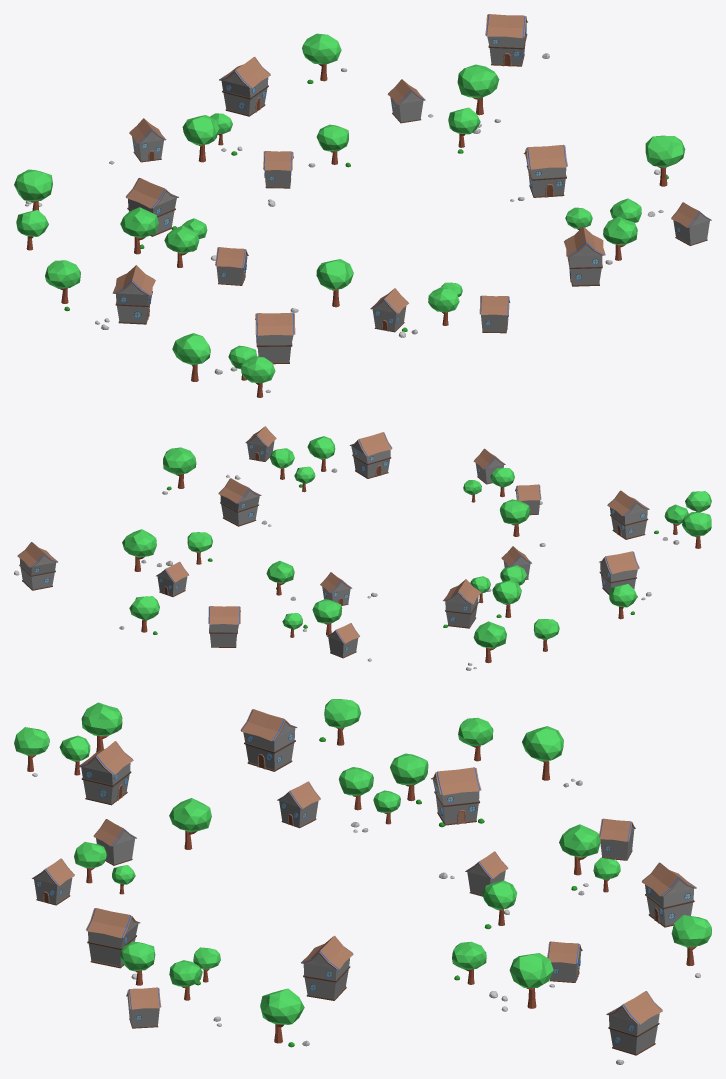
The model's file is _Updated_Town - 1.fbx.
3 views of the same model, one above another, from view 1: azimuth 30°, elevation 25°; view 2: azimuth 150°, elevation 25°; view 3: azimuth 270°, elevation 25° (orthographic). The views are drawn at different scales.
Parts seen in each view (by area): view 1: House2.004, House2.001, House2.005, House2.006, House2.003, House2.002, House2, Tree2, Tree2.003, House1.006, House1.001, House1.003 (+18 smaller); view 2: House2.006, House2.001, House2.002, House2.005, House2, House2.004, House2.003, Tree2, Tree2.003, House1, House1.005, Tree2.018 (+19 smaller); view 3: House2.003, House2.005, House2.002, House2, House2.001, House2.004, House2.006, Tree2.003, Tree2, House1.001, House1.002, House1 (+20 smaller).
Part boxes in pixels (x1=…): House2.004: x1=219, y1=57, x2=270, y2=116; House2.001: x1=523, y1=144, x2=567, y2=197; House2.005: x1=485, y1=14, x2=527, y2=66; House2.006: x1=564, y1=226, x2=605, y2=286; House2.003: x1=112, y1=265, x2=155, y2=324; House2.002: x1=255, y1=312, x2=295, y2=364; House2: x1=125, y1=178, x2=178, y2=236; Tree2: x1=457, y1=64, x2=499, y2=115; Tree2.003: x1=645, y1=135, x2=685, y2=186; House1.006: x1=671, y1=202, x2=711, y2=245; House1.001: x1=215, y1=247, x2=248, y2=285; House1.003: x1=370, y1=288, x2=408, y2=332; House2.006: x1=349, y1=432, x2=392, y2=478; House2.001: x1=218, y1=478, x2=261, y2=526; House2.002: x1=607, y1=490, x2=649, y2=539; House2.005: x1=17, y1=542, x2=57, y2=590; House2: x1=443, y1=579, x2=481, y2=628; House2.004: x1=208, y1=606, x2=240, y2=647; House2.003: x1=599, y1=551, x2=639, y2=594; Tree2: x1=122, y1=529, x2=156, y2=571; Tree2.003: x1=163, y1=447, x2=196, y2=488; House1: x1=327, y1=623, x2=359, y2=658; House1.005: x1=156, y1=561, x2=188, y2=596; Tree2.018: x1=473, y1=621, x2=506, y2=663; House2.003: x1=240, y1=709, x2=297, y2=771; House2.005: x1=606, y1=991, x2=662, y2=1055; House2.002: x1=78, y1=741, x2=133, y2=805; House2: x1=431, y1=767, x2=481, y2=825; House2.001: x1=301, y1=935, x2=353, y2=1000; House2.004: x1=642, y1=862, x2=696, y2=927; House2.006: x1=86, y1=908, x2=140, y2=968; Tree2.003: x1=260, y1=988, x2=304, y2=1043; Tree2: x1=509, y1=953, x2=553, y2=1008; House1.001: x1=277, y1=781, x2=320, y2=828; House1.002: x1=32, y1=858, x2=74, y2=905; House1: x1=599, y1=818, x2=635, y2=860.
Bounding box in the file's own units: 5153 × 384 × 4603.
